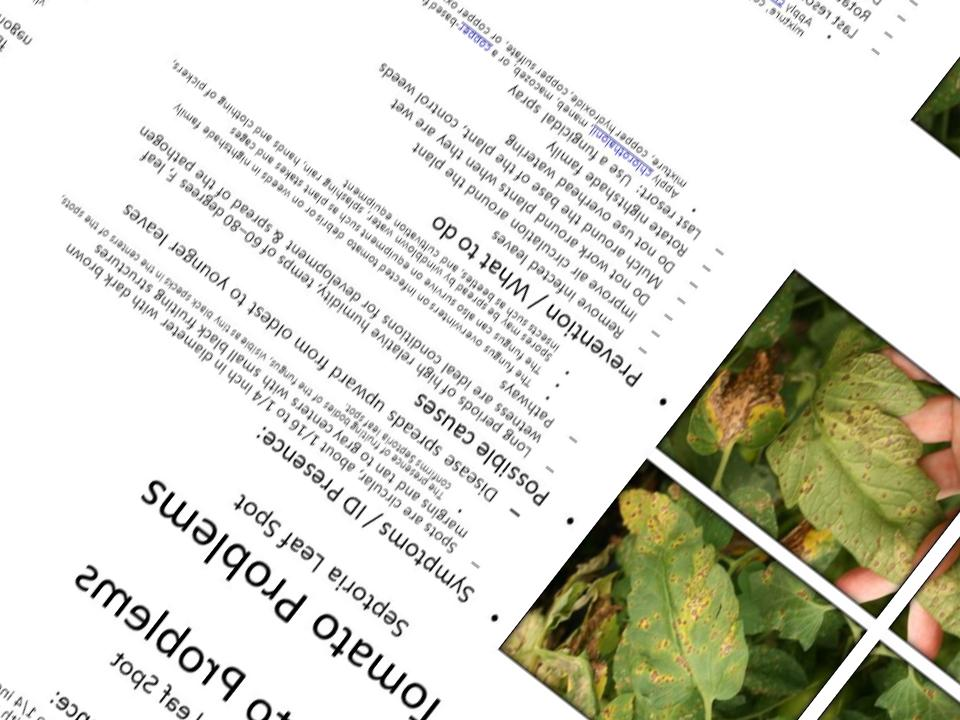Tomato Septoria leaf spot: (526, 471, 810, 720), (740, 329, 960, 590), (665, 329, 827, 499)
